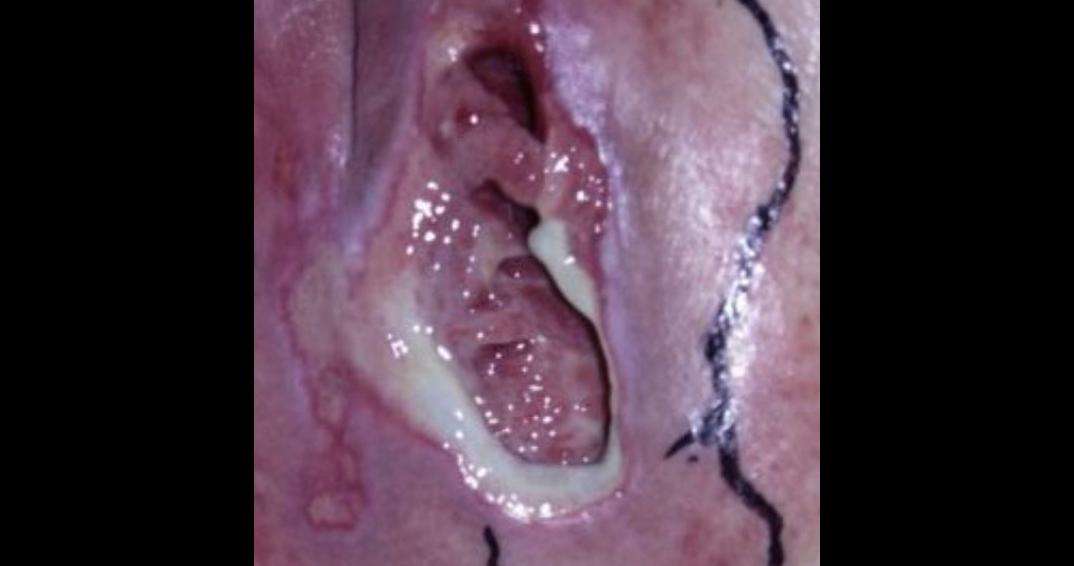Stage4: (306, 0, 671, 566)
